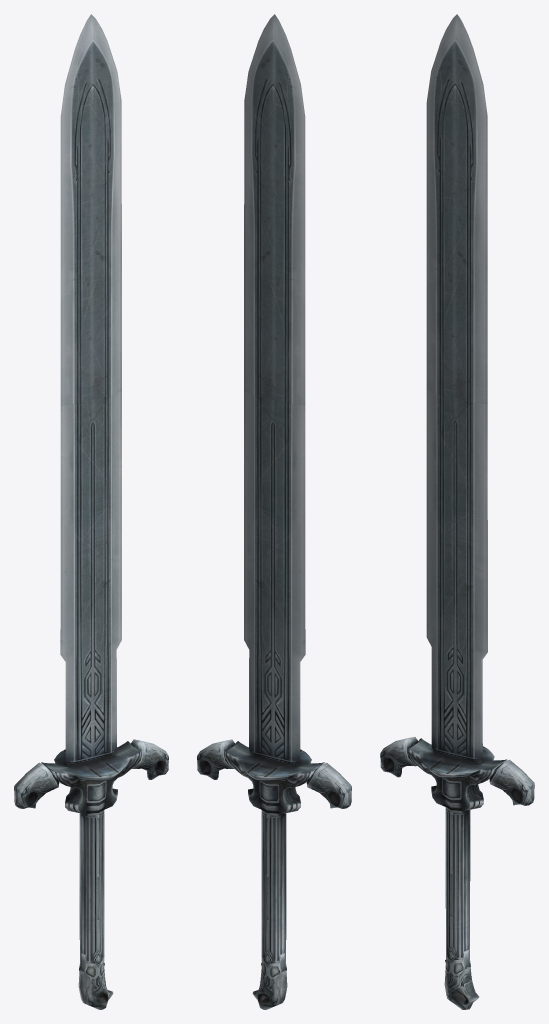
Rendered from sword_twohanded.FBX.
3 renders of one model, left to right at view 1: azimuth 30°, elevation 25°; view 2: azimuth 150°, elevation 25°; view 3: azimuth 330°, elevation 25°, orthographic.
Visible parts, largest first — view 1: sword_twohandled; view 2: sword_twohandled; view 3: sword_twohandled.
Part boxes in pixels (x1,y1,x2,y2): sword_twohandled: (14, 14, 168, 1009); sword_twohandled: (197, 14, 351, 1009); sword_twohandled: (380, 14, 534, 1009).
Size of what is drawn, in the model's own units: 23.02 by 144 by 10.3.
